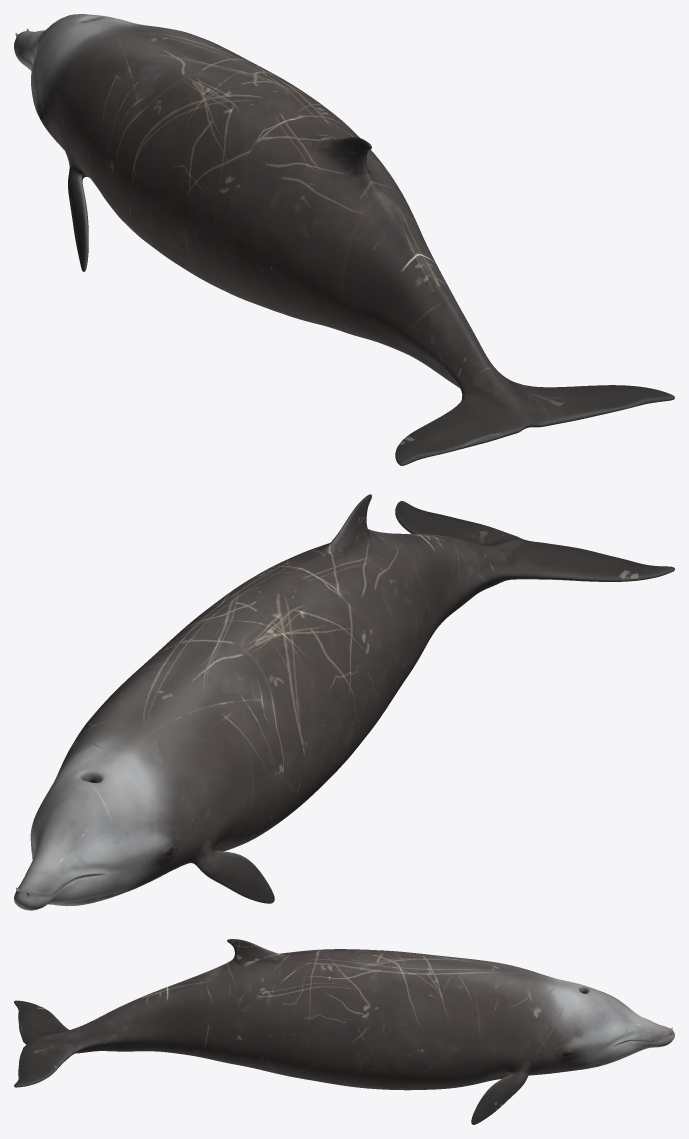
File: cuviers-beaked-whale.glb
3 renders of one model, top to bottom at view 1: azimuth 30°, elevation 25°; view 2: azimuth 150°, elevation 25°; view 3: azimuth 270°, elevation 25°, orthographic. The views are drawn at different scales.
Parts seen in each view (by area): view 1: Pivot; view 2: Pivot; view 3: Pivot.
Part boxes in pixels (box(x1,y1,x2,y2)): Pivot: box(14, 14, 674, 465); Pivot: box(14, 494, 674, 910); Pivot: box(14, 939, 674, 1124).
Bounding box in the file's own units: 1.94 × 1.65 × 6.33.
Materials: 1 (1 with a texture image).
